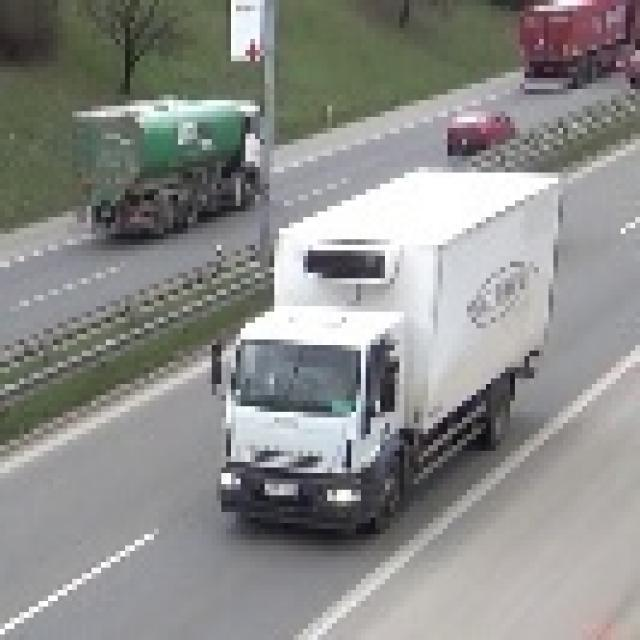truck: (206, 156, 558, 529), (63, 83, 264, 244)
